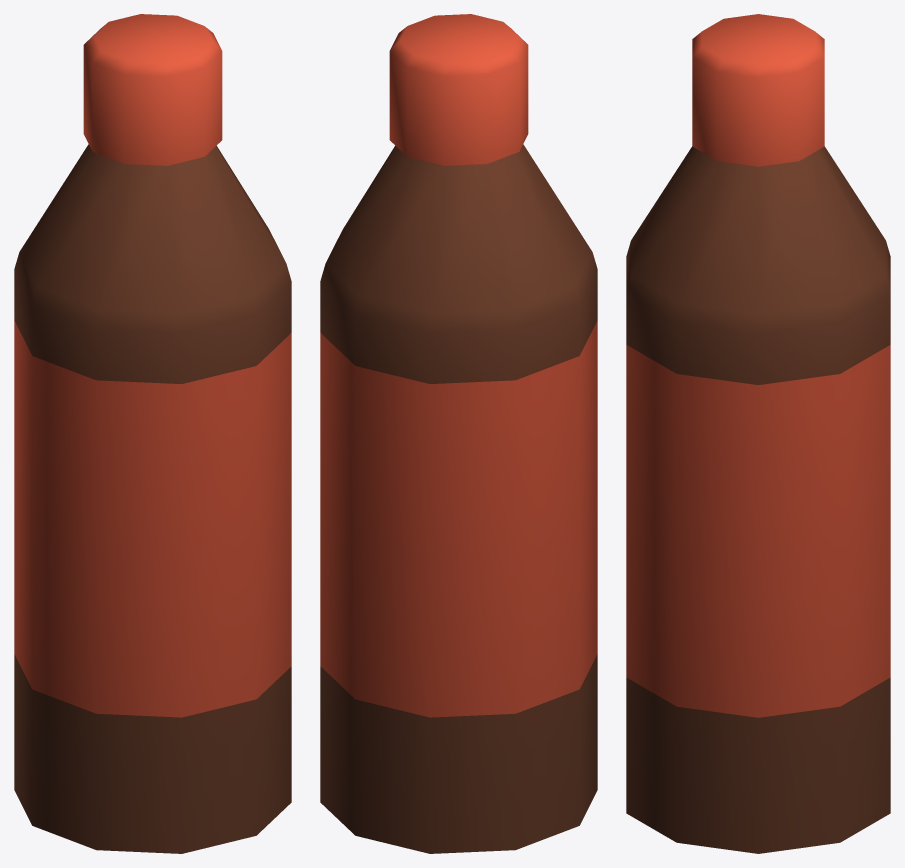
File: Bottle_Soda_2L_01.glb
3 renders of one model, left to right at view 1: azimuth 30°, elevation 25°; view 2: azimuth 150°, elevation 25°; view 3: azimuth 270°, elevation 25°, orthographic.
Parts seen in each view (by area): view 1: SM_Bottle_Soda_2L_01; view 2: SM_Bottle_Soda_2L_01; view 3: SM_Bottle_Soda_2L_01.
Part boxes in pixels (box(x1,y1,x2,y2)): SM_Bottle_Soda_2L_01: box(14, 14, 291, 853); SM_Bottle_Soda_2L_01: box(320, 14, 597, 853); SM_Bottle_Soda_2L_01: box(626, 14, 890, 853).
Size of the model in its own units: 0.11 by 0.33 by 0.1046.
Materials: 1 (1 with a texture image).
